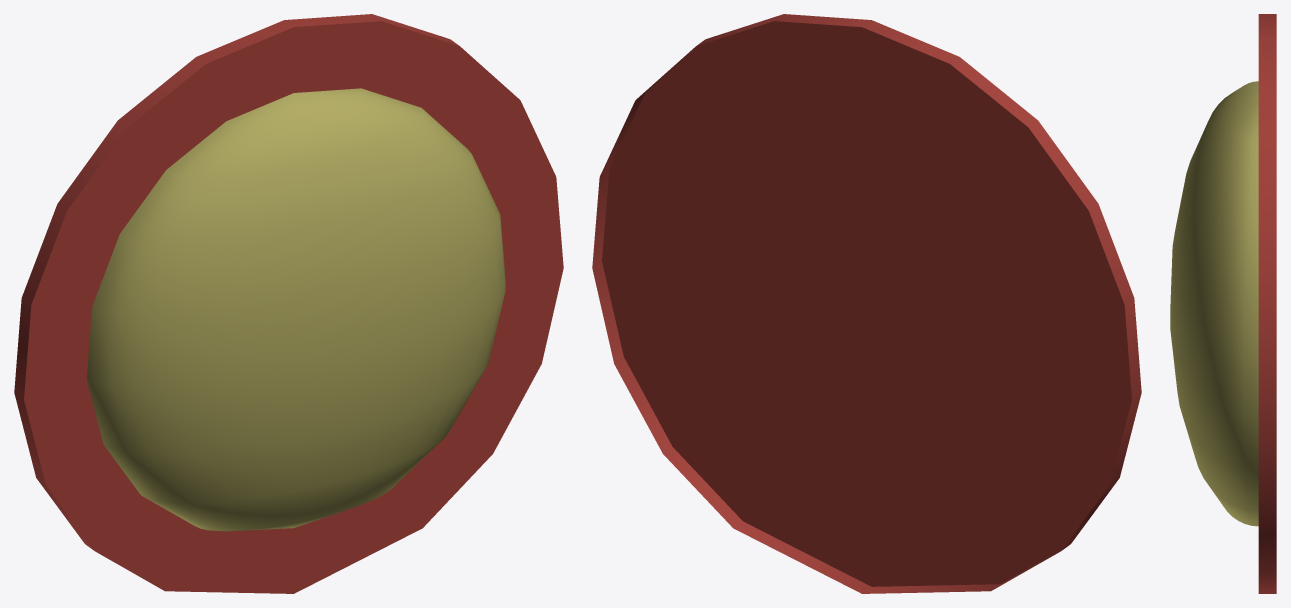
Rendered from boss01_hitPoint.FBX.
3 renders of one model, left to right at view 1: azimuth 30°, elevation 25°; view 2: azimuth 150°, elevation 25°; view 3: azimuth 270°, elevation 25°, orthographic. The views are drawn at different scales.
Parts seen in each view (by area): view 1: boss01_hitPoint; view 2: boss01_hitPoint; view 3: boss01_hitPoint.
Boxes of the visible parts, x1,y1,x2,y2 form: boss01_hitPoint: [14, 14, 563, 593]; boss01_hitPoint: [592, 14, 1141, 593]; boss01_hitPoint: [1170, 14, 1276, 593].
Size of the model in its own units: 2.74 by 2.75 by 0.503.
